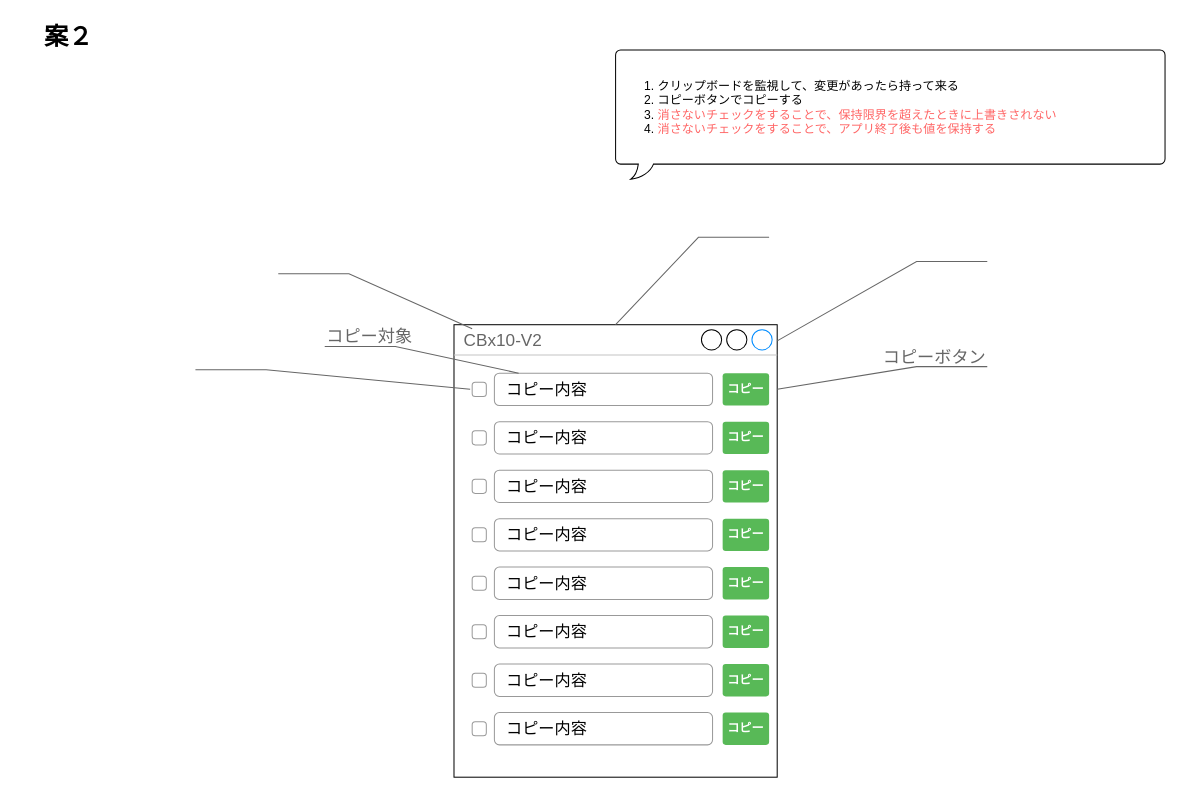
Some shapes in this 1183 by 795 pixel diagram are drawn without their labels. Here are the shapes that lost their labels. From the top down, the centre of each, then its label:
At point 374,288: "アプリタイトル".
At point 692,268: "メインウィンドウ".
At point 881,288: "最小化・閉じるボタン".
At point 332,366: "消さないチェック".
